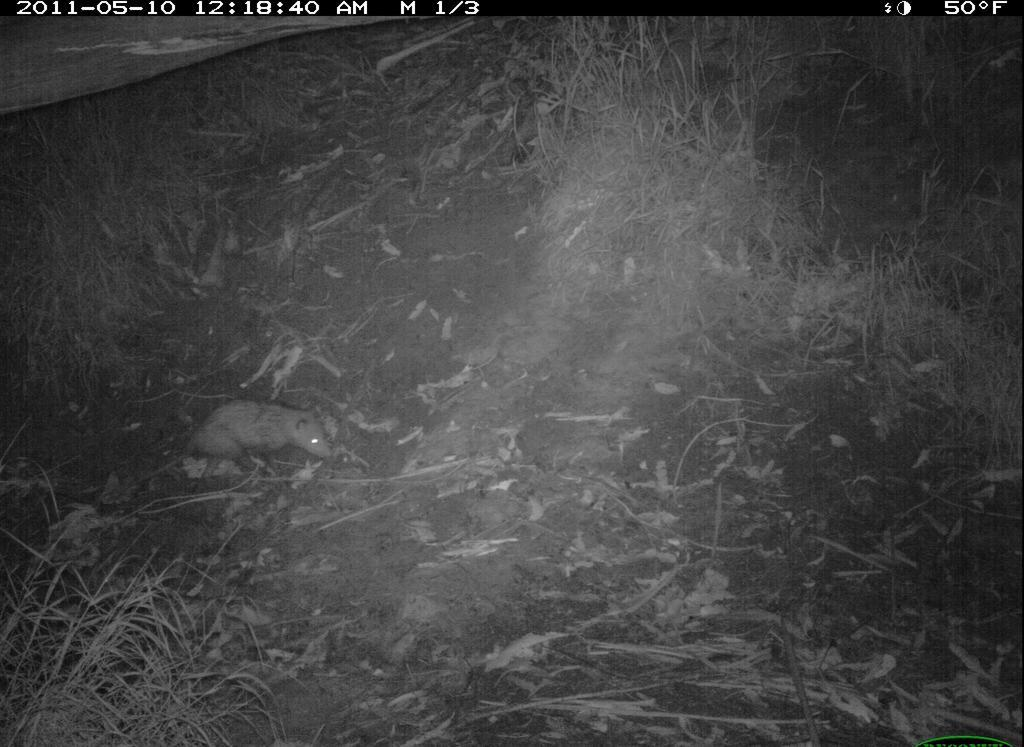opossum: (128, 352, 369, 501)
